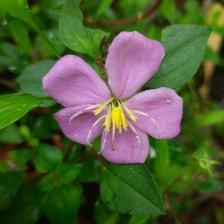malabar melastome: (41, 30, 185, 166)
